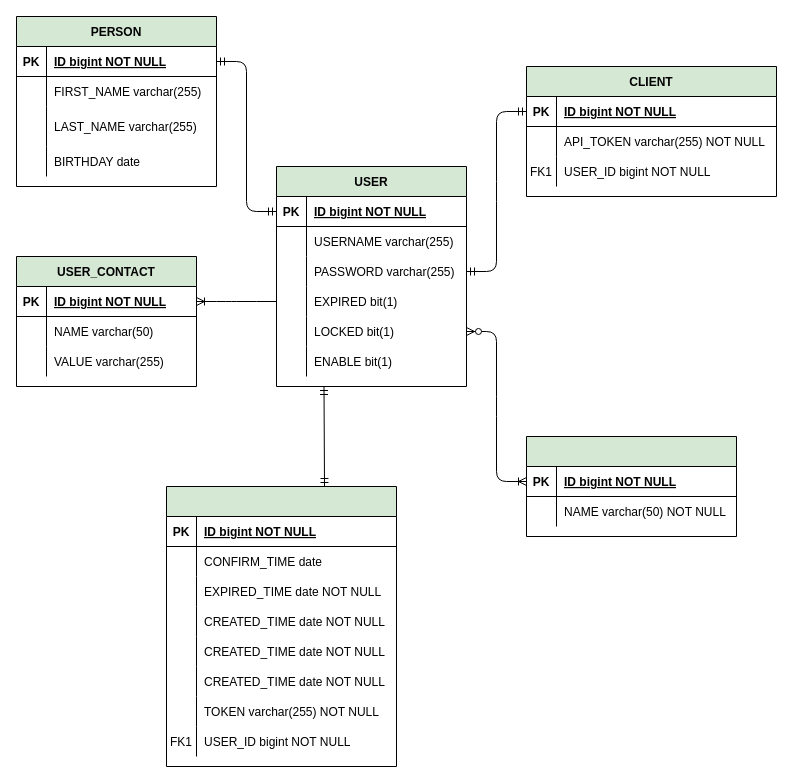
The diagram is 793 pixels wide and 783 high, and some of its shapes have lost their labels. The shapes that lost their labels are listed below. From the top down, each one's box as (x1, y1, x2, y2) in pixels, then its label:
(526, 436, 736, 536): ROLE
(166, 486, 396, 766): CONFIRMATION_TOKEN
